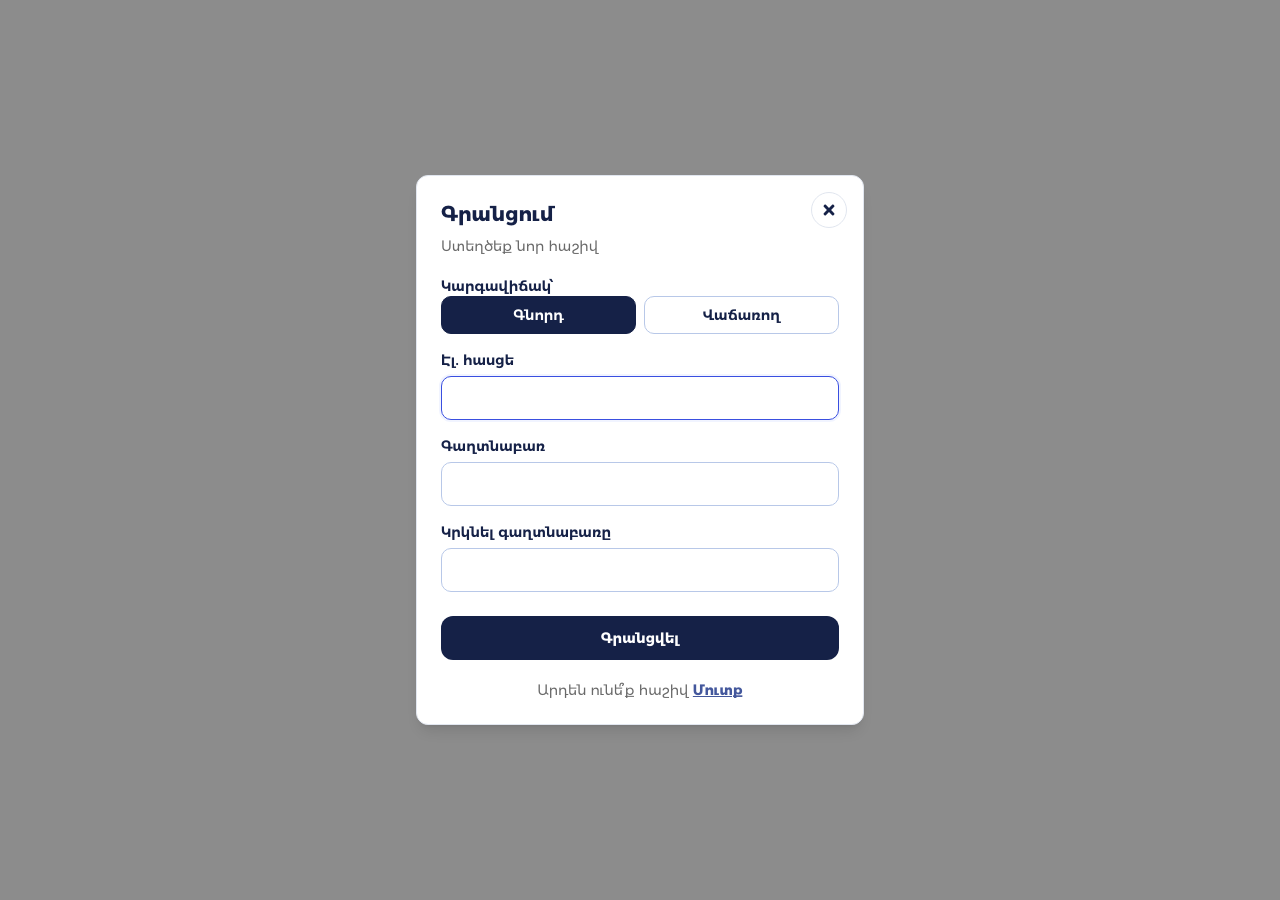
Test case: signing in with wrong credentials › an empty field still reports the missing field, not a wrong password
Click the button "Մուտք". click: (718, 690)
box: x1=693 y1=680 x2=743 y2=700
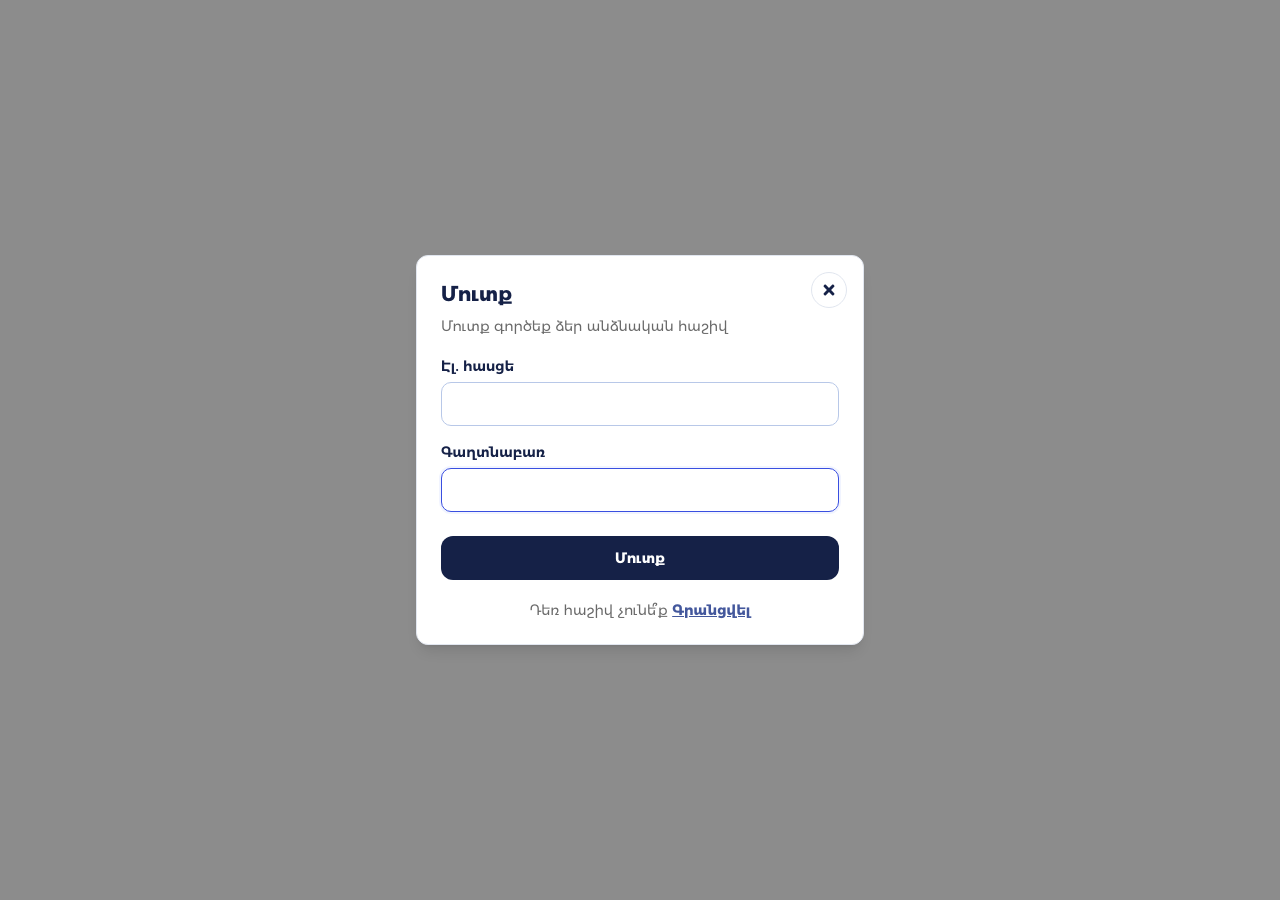
Type "alice@test.com" into the field labelled "Էլ. հասցե". click: (640, 404)
box: x1=441 y1=382 x2=839 y2=426
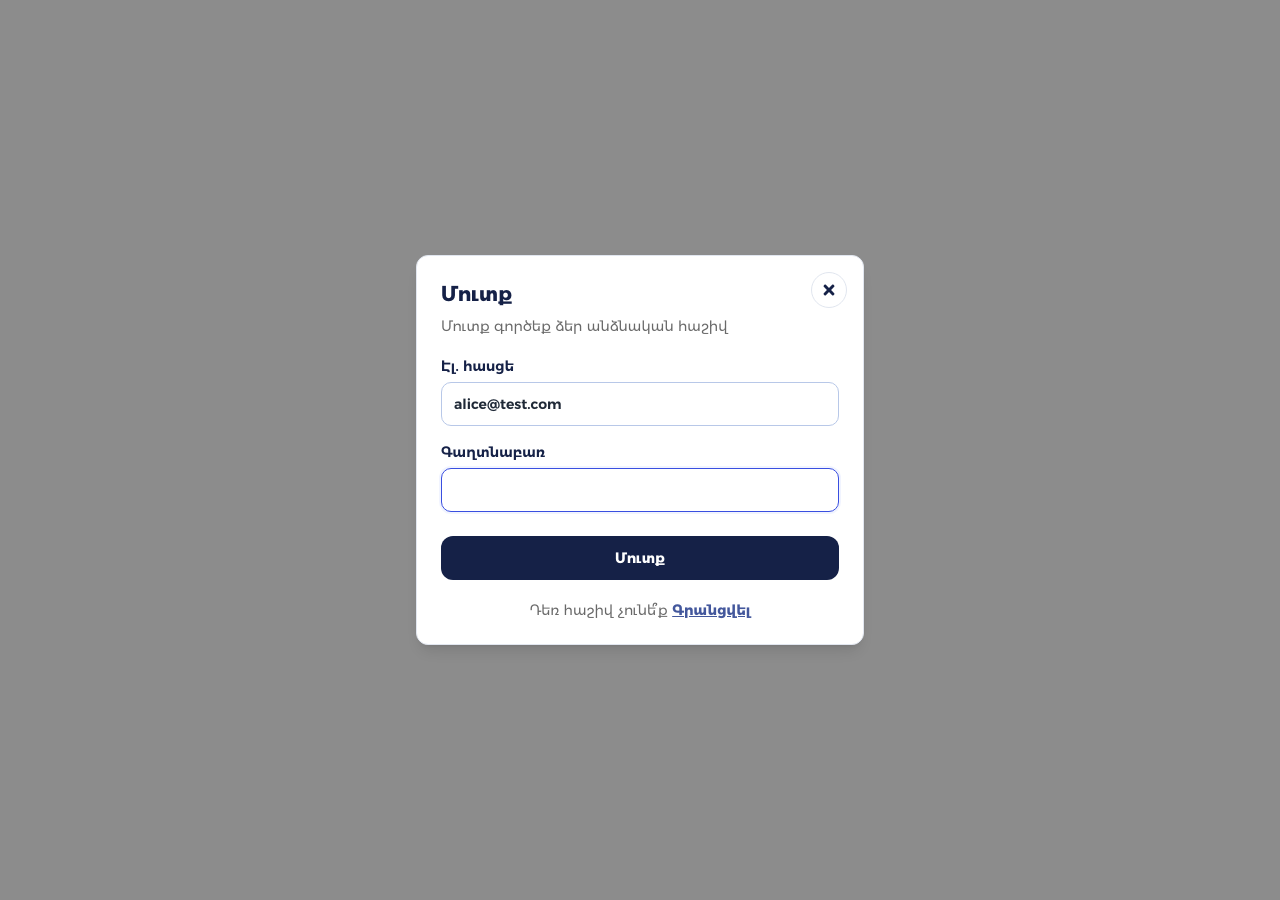
Click the button "Մուտք". click: (640, 558)
box: x1=441 y1=536 x2=839 y2=580
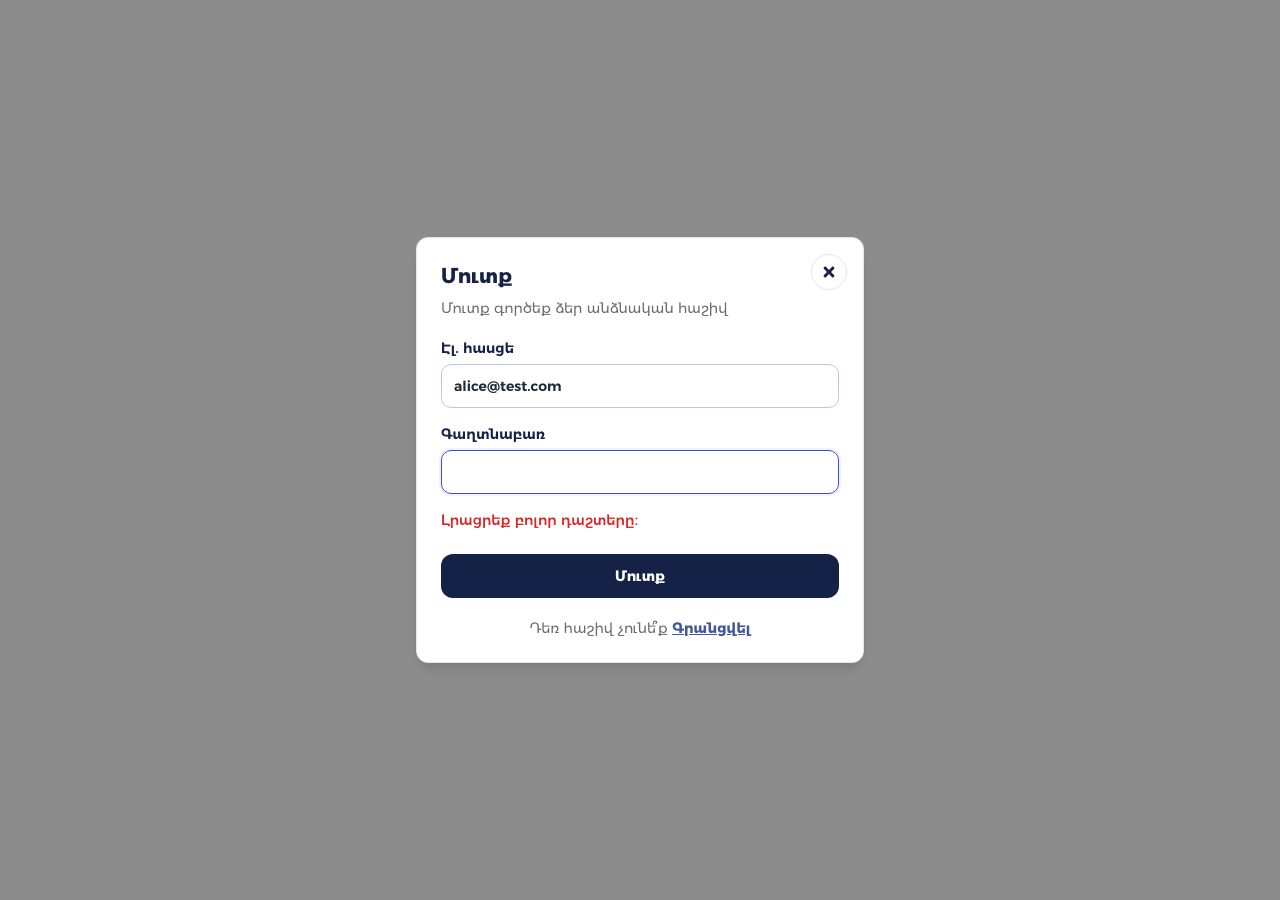
Result: the message reads "Լրացրեք բոլոր դաշտերը։" at x1=441 y1=511 x2=638 y2=529
